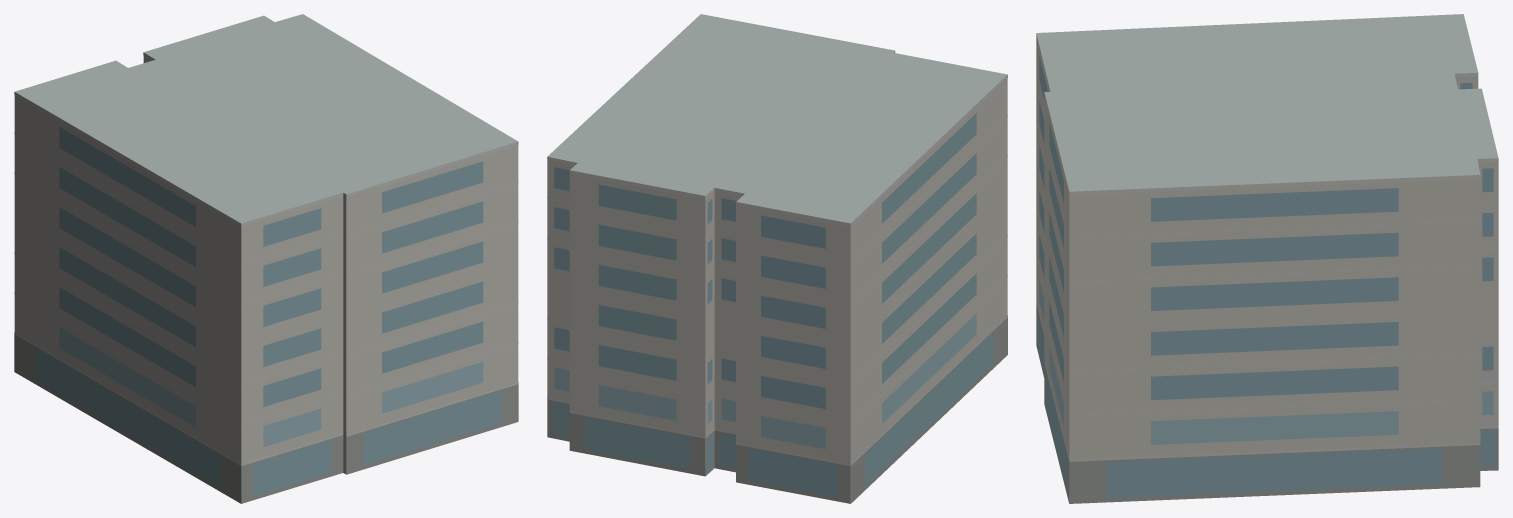
Rendered from survey-upis-32665717.glb.
3 views of the same model, side by side, from view 1: azimuth 30°, elevation 25°; view 2: azimuth 150°, elevation 25°; view 3: azimuth 270°, elevation 25° (orthographic). The views are drawn at different scales.
Visible parts, largest first — view 1: survey-upis-32665717.tmp; view 2: survey-upis-32665717.tmp; view 3: survey-upis-32665717.tmp.
Boxes of the visible parts, <box> form: survey-upis-32665717.tmp: <box>14,14,518,503</box>; survey-upis-32665717.tmp: <box>547,14,1007,503</box>; survey-upis-32665717.tmp: <box>1036,14,1498,503</box>.
Bounding box in the file's own units: 24.56 × 20.1 × 26.99.
